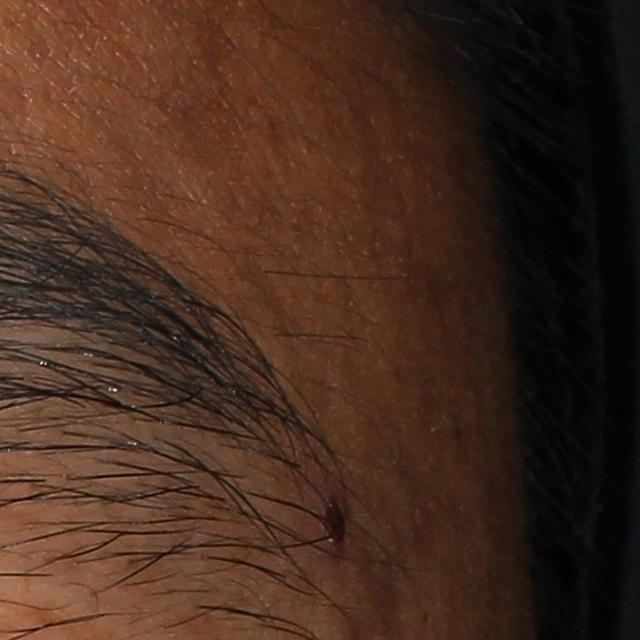nevus: (314, 491, 353, 550)
